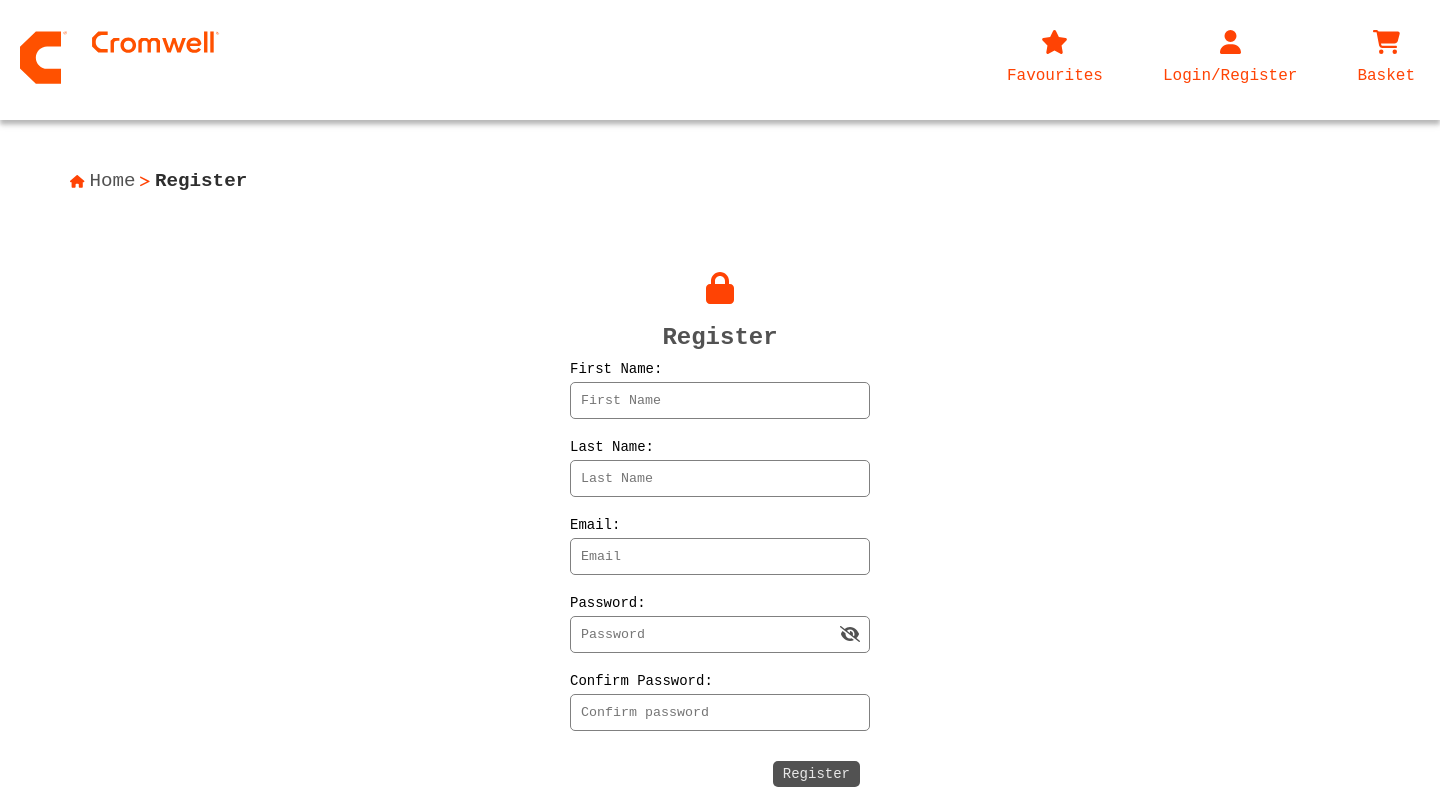
Test: Register Component › displays error message for invalid form submission
This screenshot has width=1440, height=810.
In the field with placeholder "First Name": (720, 400) [570,382,870,419], type "John"
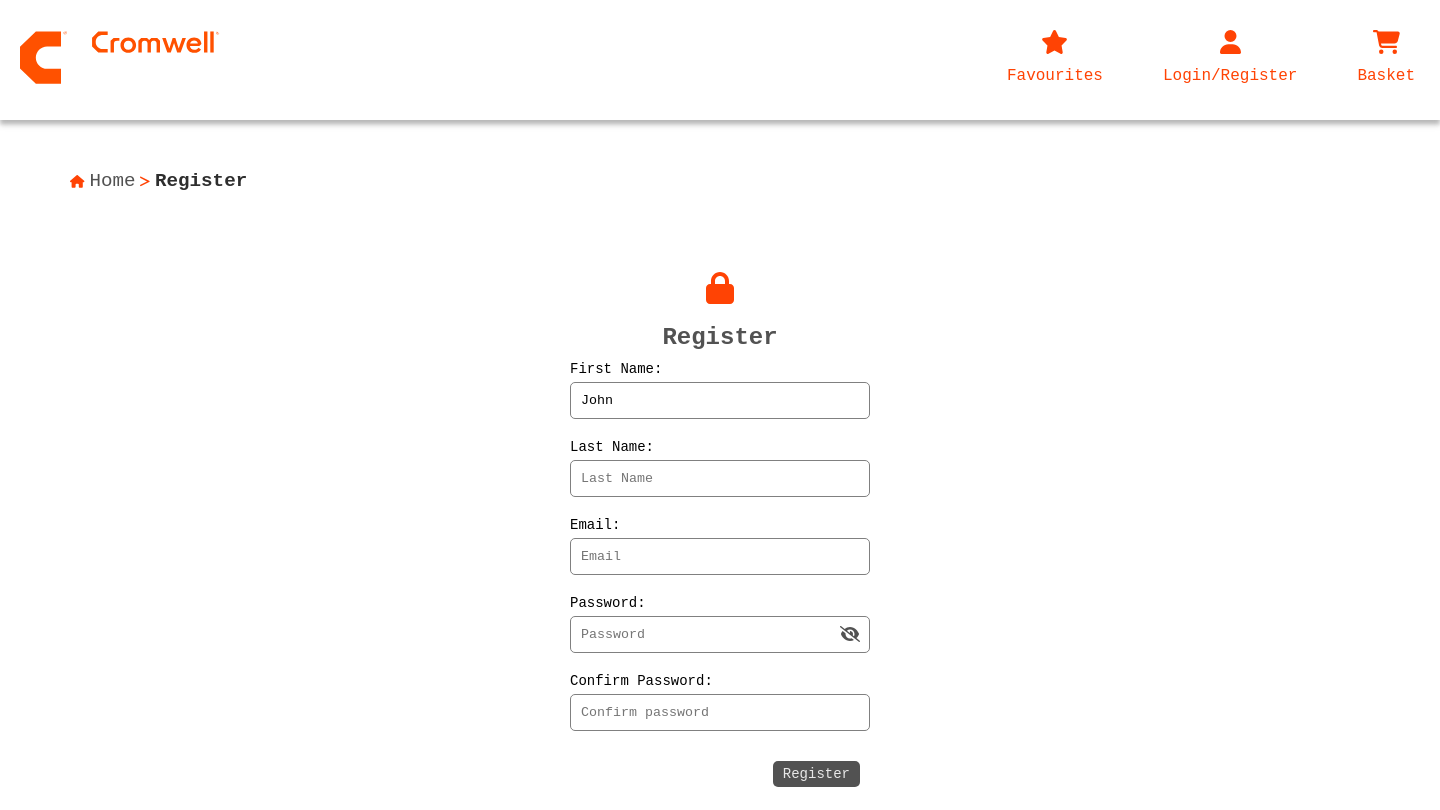
In the field with placeholder "Last Name": (720, 478) [570,460,870,497], type "Doe"
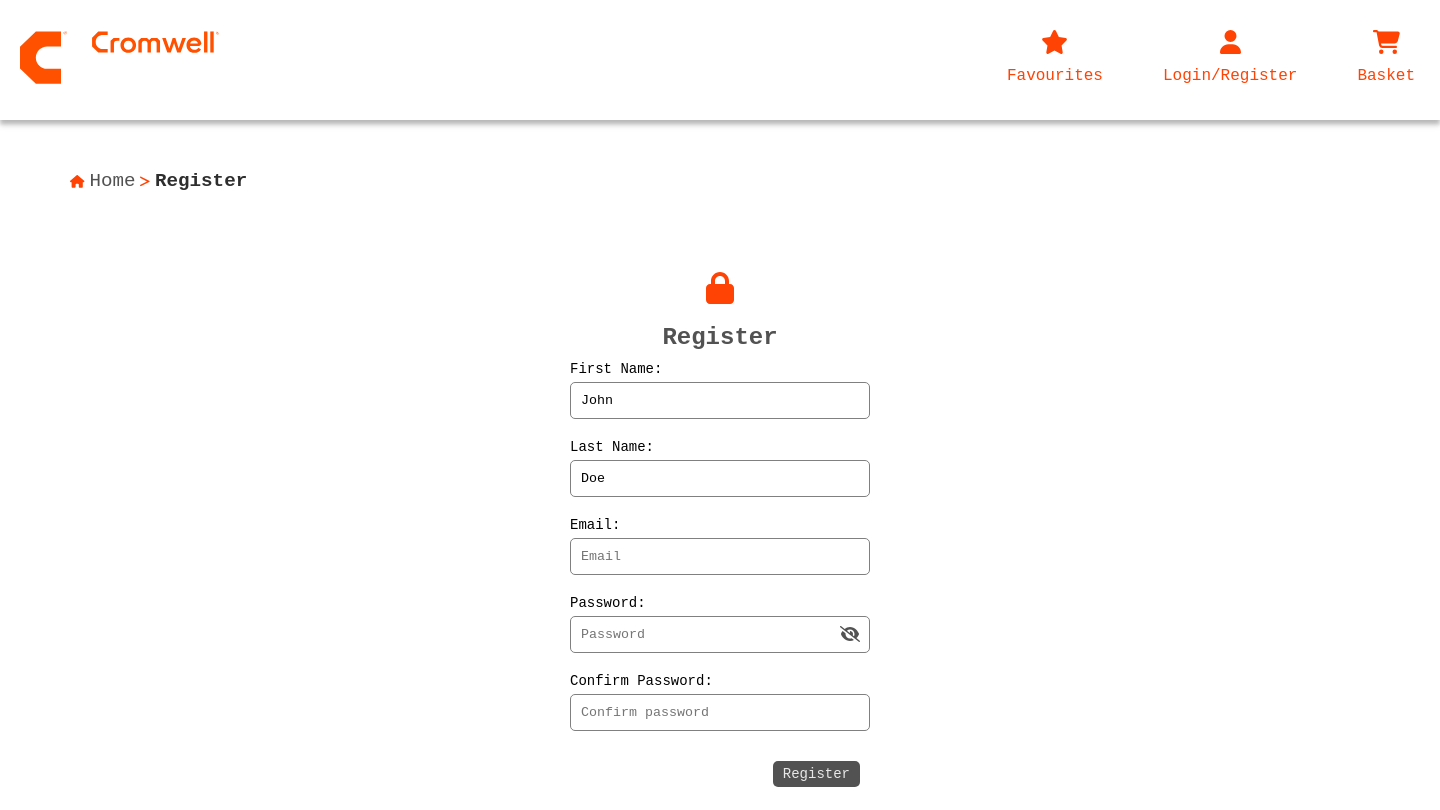
In the field with placeholder "Email": (720, 556) [570,538,870,575], type "invalidemail"
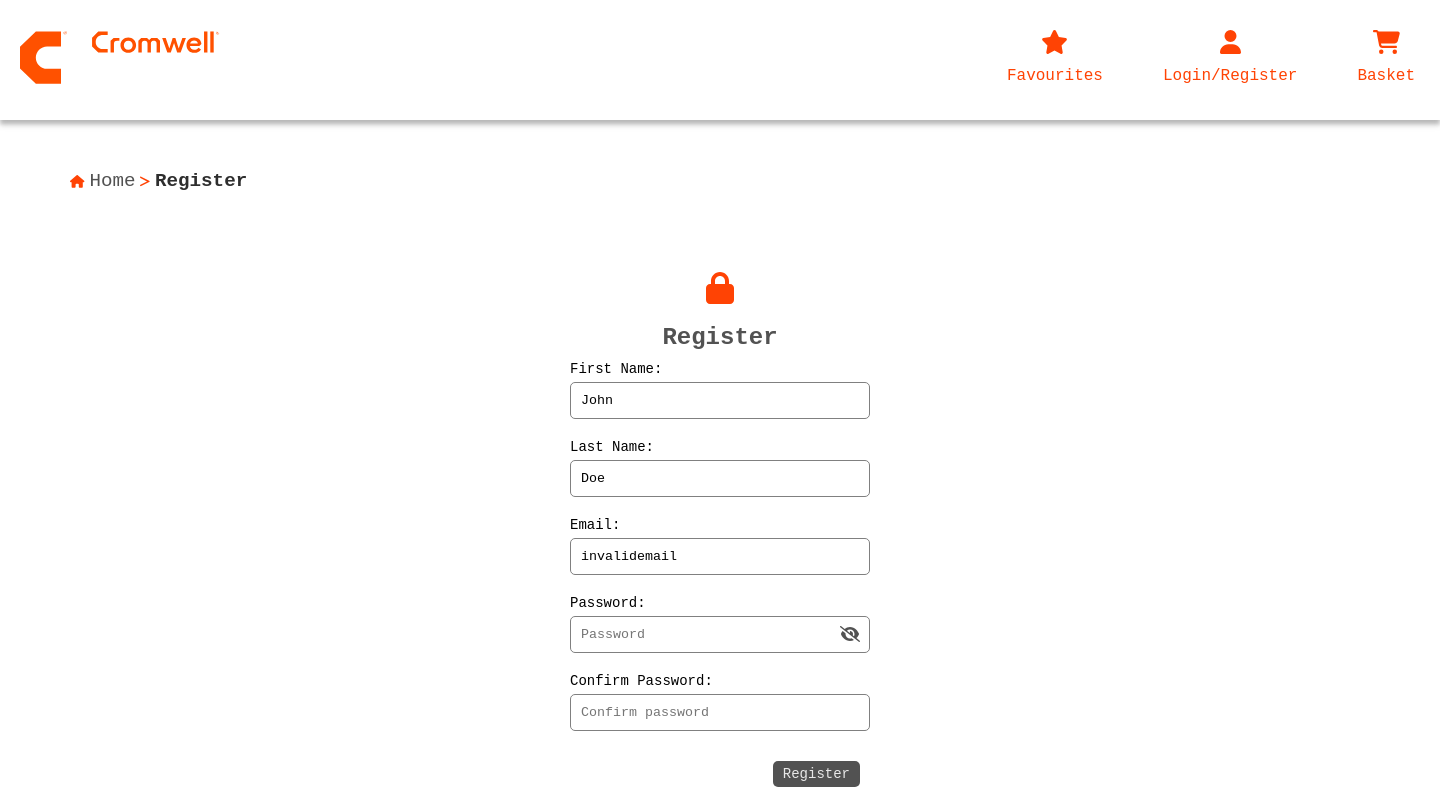
In the password field with placeholder "Password": (720, 634) [570,616,870,653], type "password"
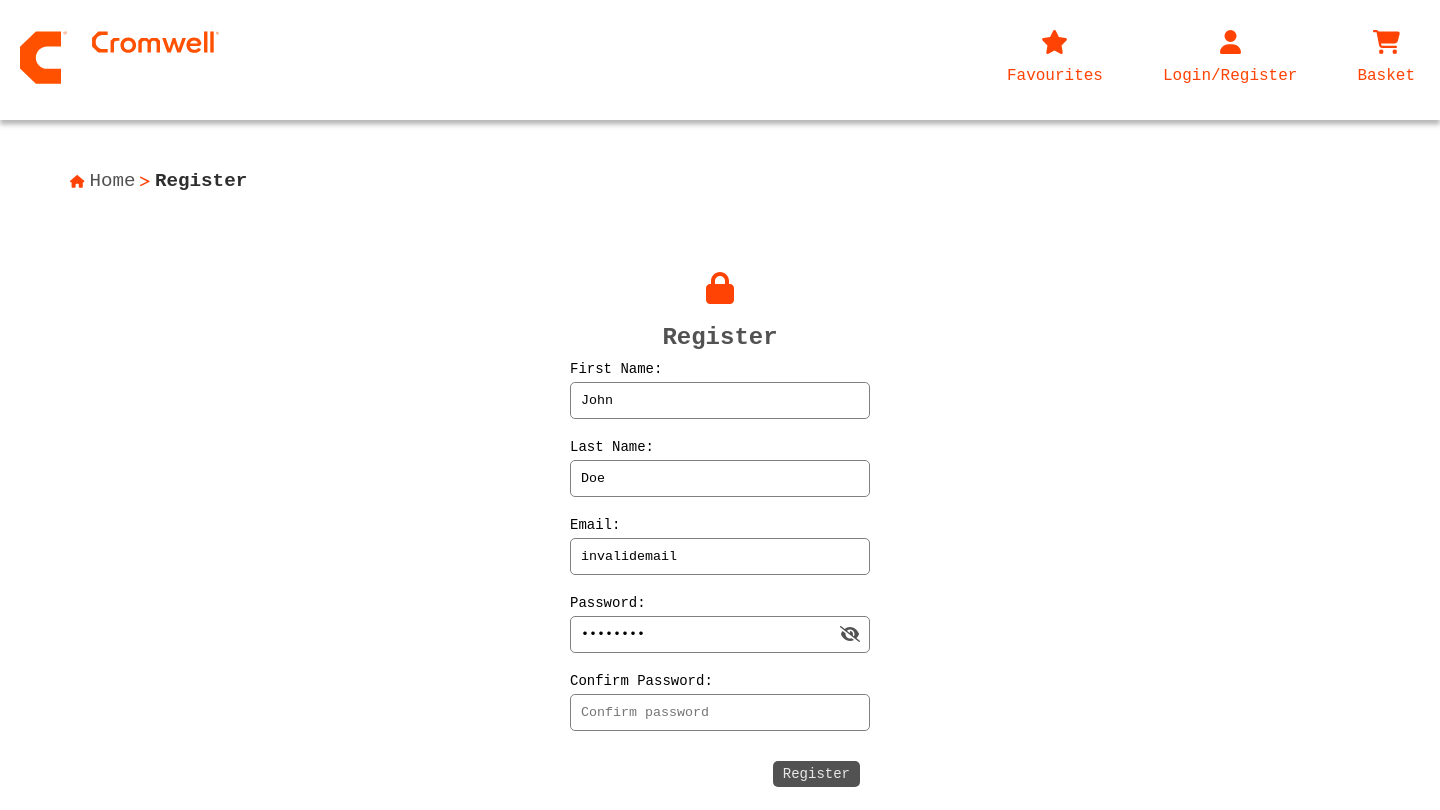
In the password field with placeholder "Confirm password": (720, 712) [570,694,870,731], type "password"
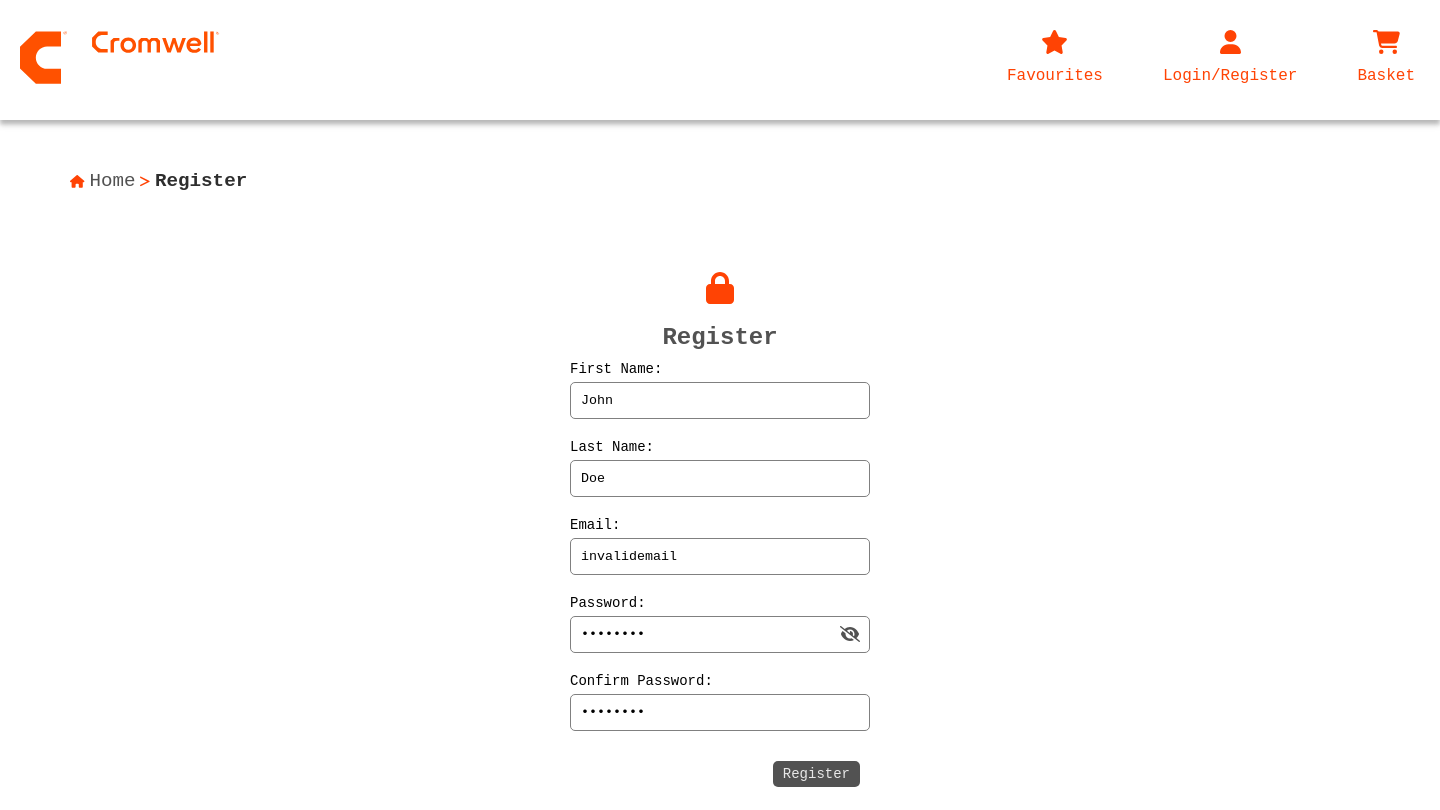
Submit the form from the button "Register", box [773,761,860,787]
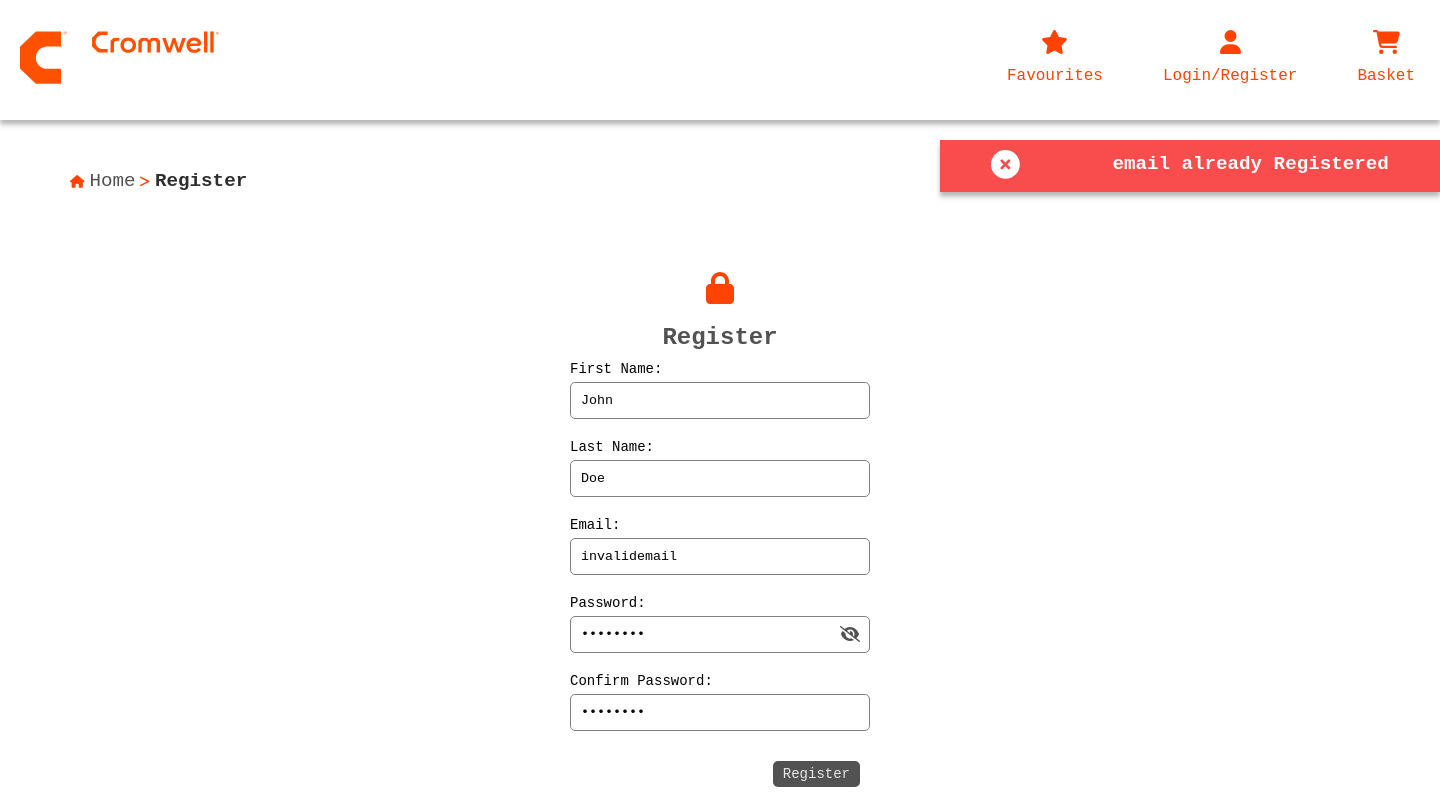
Expected: the text "email already Registered" is shown, [1112,153,1389,175]
